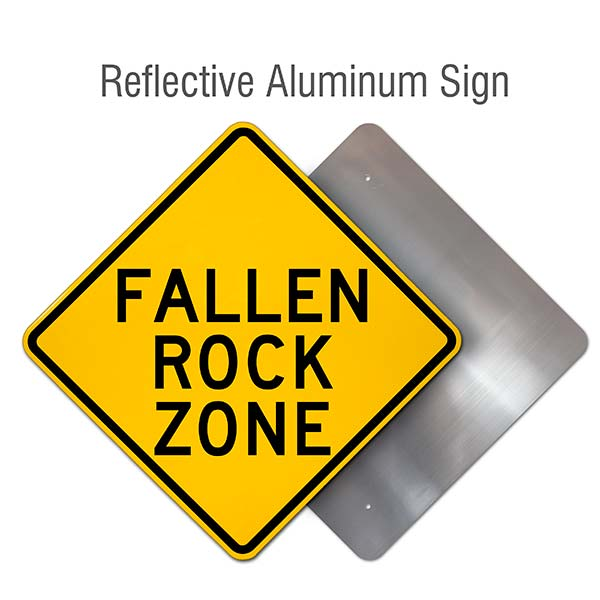FallenSign: (18, 117, 468, 568)
